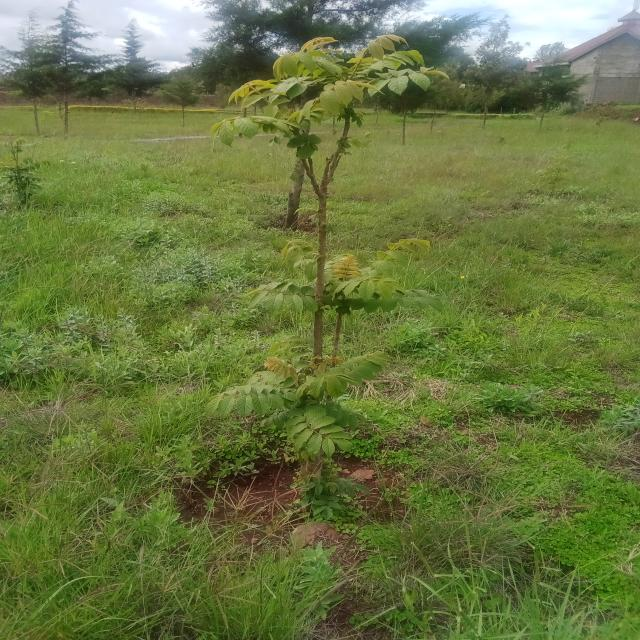Juniperus procesera: (206, 0, 463, 105), (47, 8, 108, 130), (1, 3, 56, 127), (112, 19, 161, 122), (160, 60, 215, 124)
Polyscias Kikuyensis: (212, 29, 458, 498)
